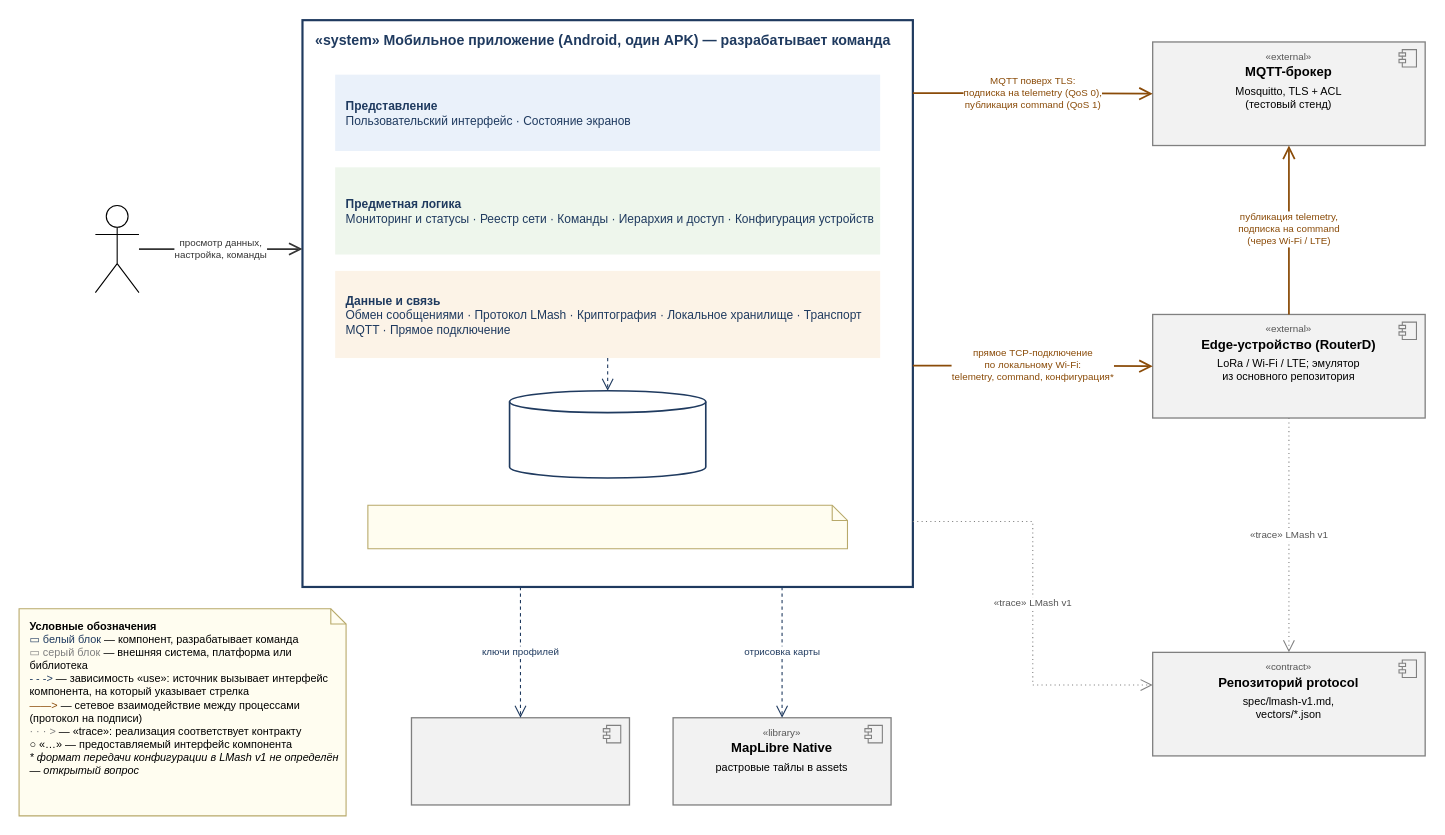
This 1445x835 diagram has some shape labels left out. The shapes that lost their labels are listed below. From the top down, each one's box as (x1, y1, x2, y2) in pixels, then its label:
(94, 204, 139, 293): Оператор / настройщик
(508, 389, 706, 478): БД приложения (Room / SQLite)
(367, 504, 847, 549): Детализация модулей — лист «2. Модули приложения»
(410, 717, 630, 805): «platform» Android Keystore
